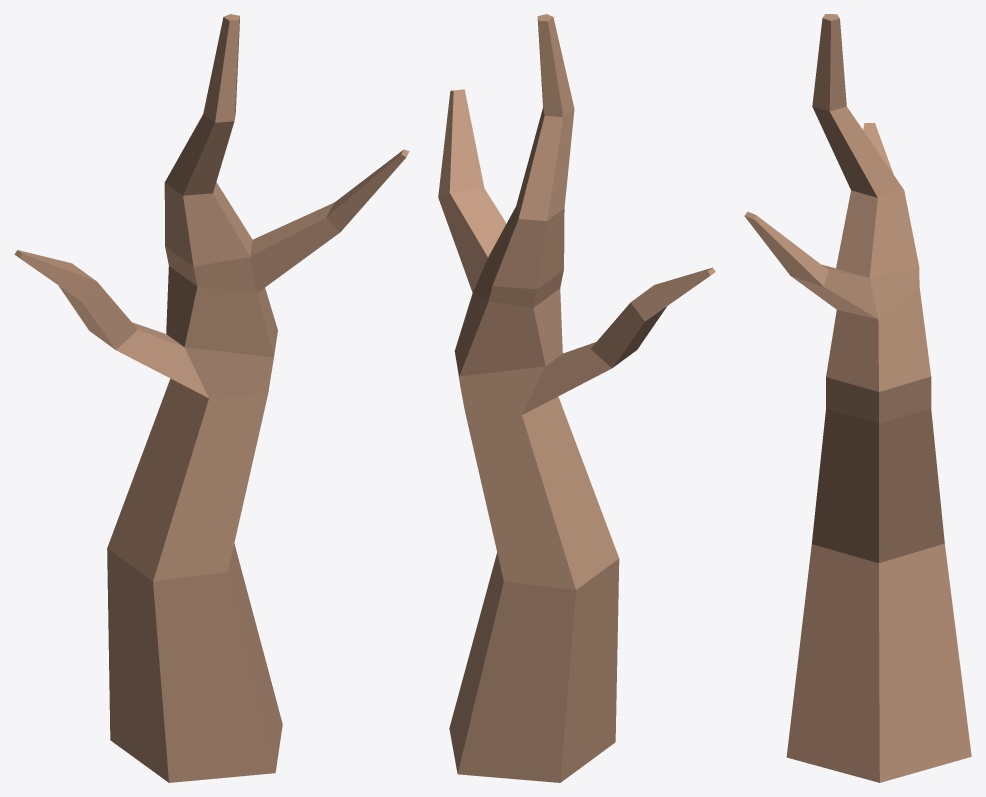
File: SM_Tree_011.fbx
3 views of the same model, side by side, from view 1: azimuth 30°, elevation 25°; view 2: azimuth 150°, elevation 25°; view 3: azimuth 270°, elevation 25° (orthographic). The views are drawn at different scales.
Visible parts, largest first — view 1: SM_Tree_011; view 2: SM_Tree_011; view 3: SM_Tree_011.
Boxes of the visible parts, bbox=[...] form: SM_Tree_011: bbox=[14, 14, 409, 782]; SM_Tree_011: bbox=[438, 14, 715, 782]; SM_Tree_011: bbox=[744, 14, 971, 782].
Size of the model in its own units: 159 by 339 by 95.46.
Materials: 1 (1 with a texture image).
